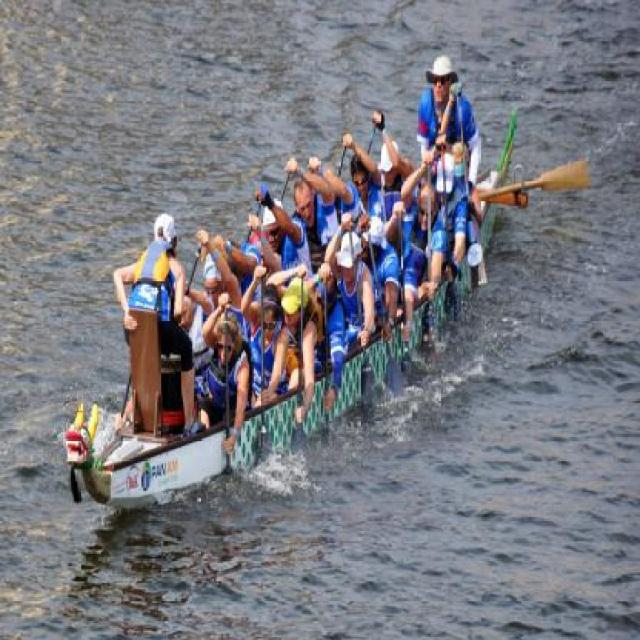Person: (115, 56, 483, 456), (417, 56, 478, 186)
